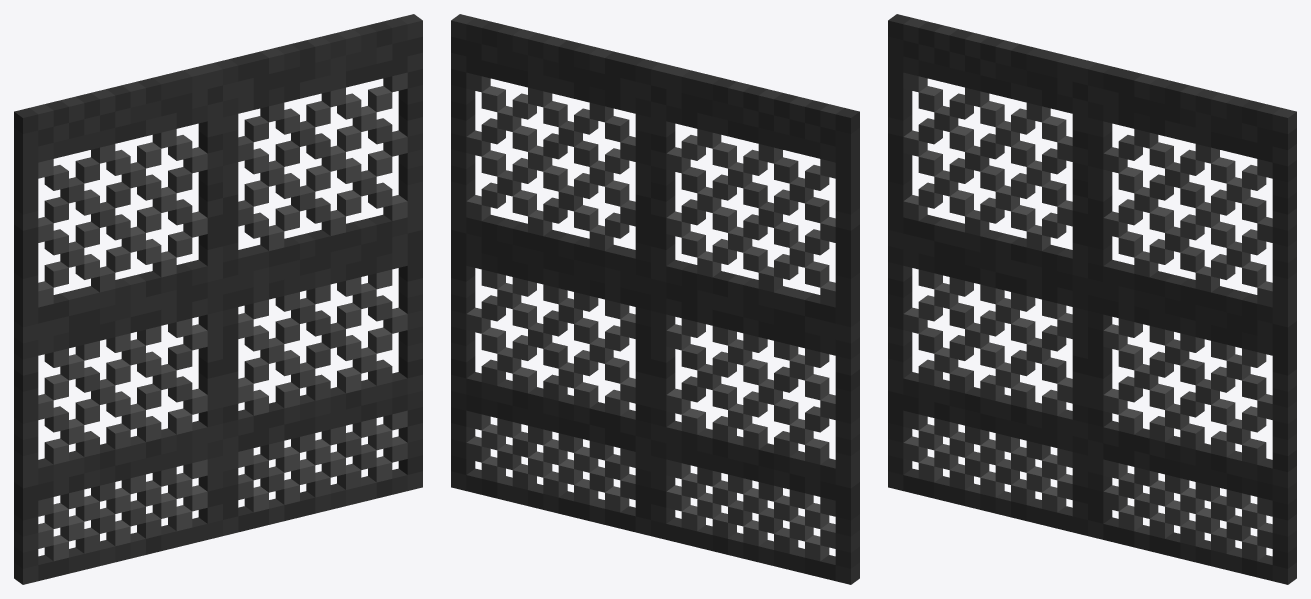
Rendered from Ascensor-1-Puerta.obj.
3 renders of one model, left to right at view 1: azimuth 30°, elevation 25°; view 2: azimuth 150°, elevation 25°; view 3: azimuth 330°, elevation 25°, orthographic.
Parts seen in each view (by area): view 1: Puerta; view 2: Puerta; view 3: Puerta.
Boxes of the visible parts, x1,y1,x2,y2 form: Puerta: (14, 14, 422, 584); Puerta: (451, 14, 859, 584); Puerta: (888, 14, 1296, 584).
Size of the model in its own units: 2.6 by 2.9 by 0.1.
1 material, 1 textured.
